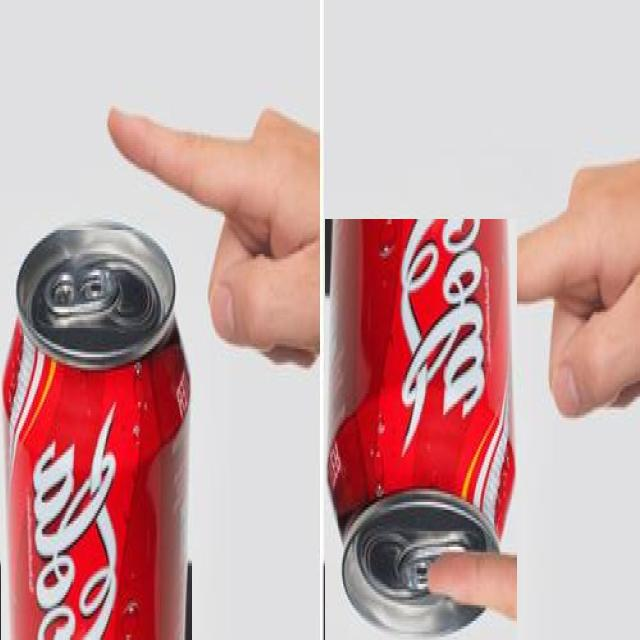coca-cola: (325, 219, 517, 640), (1, 230, 192, 640)
